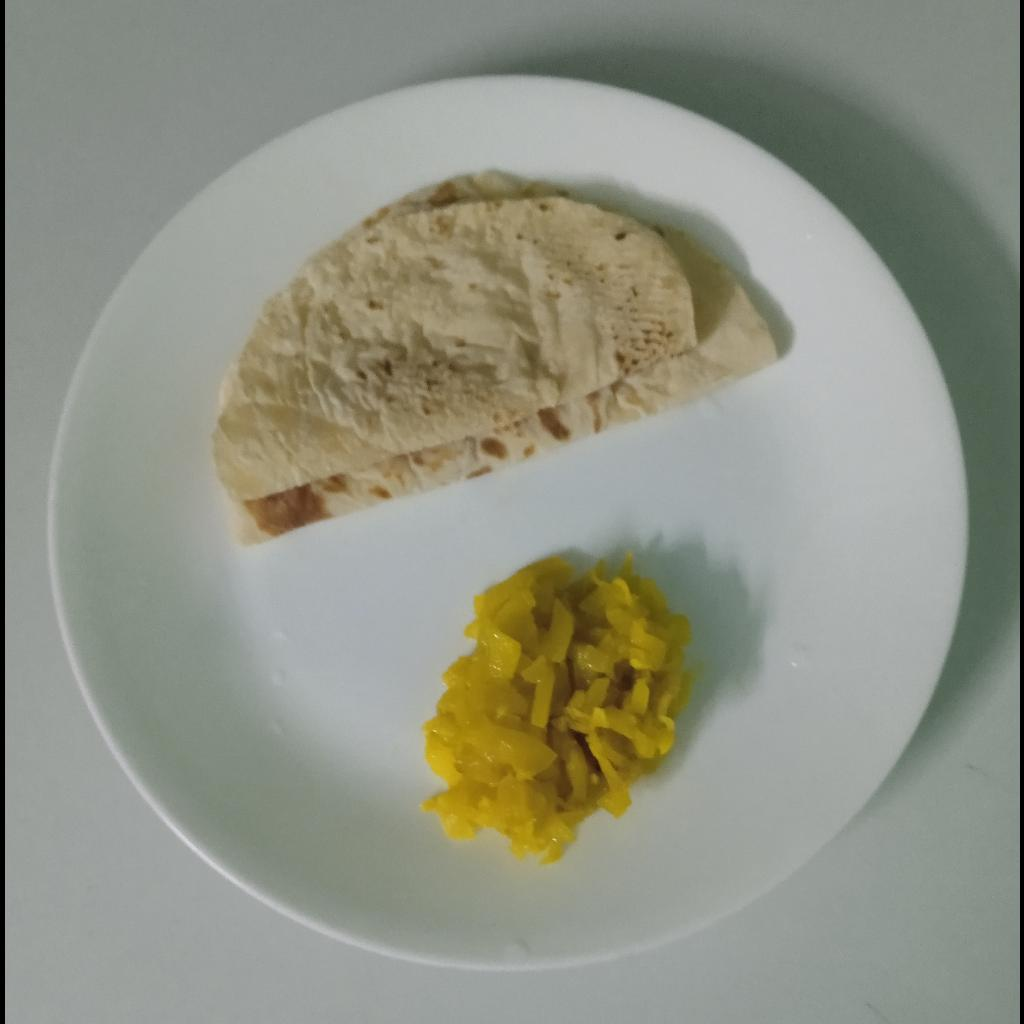papaya: (418, 550, 697, 863)
ruti: (208, 163, 783, 554)
